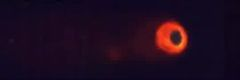keyhole: (168, 29, 185, 47)
